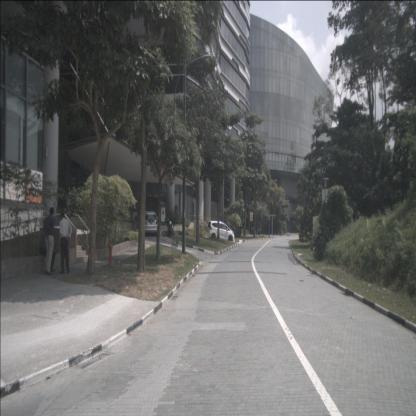human-pedestrian-adult: (60, 210, 72, 274), (39, 227, 56, 272), (44, 207, 55, 275), (132, 207, 138, 232), (242, 224, 246, 238), (237, 223, 240, 238), (240, 224, 243, 237)
vehicle-car: (207, 220, 234, 242), (142, 211, 159, 236)
vehicle-motorcycle: (165, 214, 174, 237)
